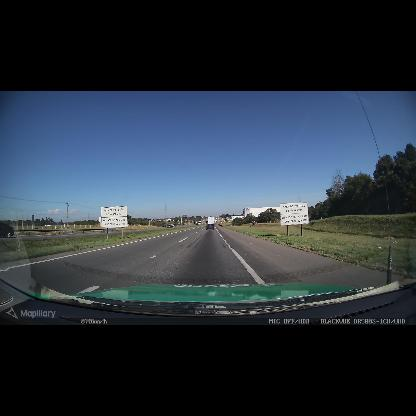I-SA: (280, 202, 309, 226), (101, 206, 128, 228)
